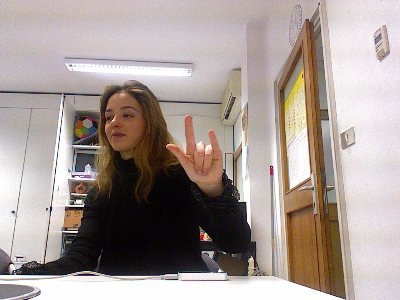我爱你: (164, 113, 225, 187)
